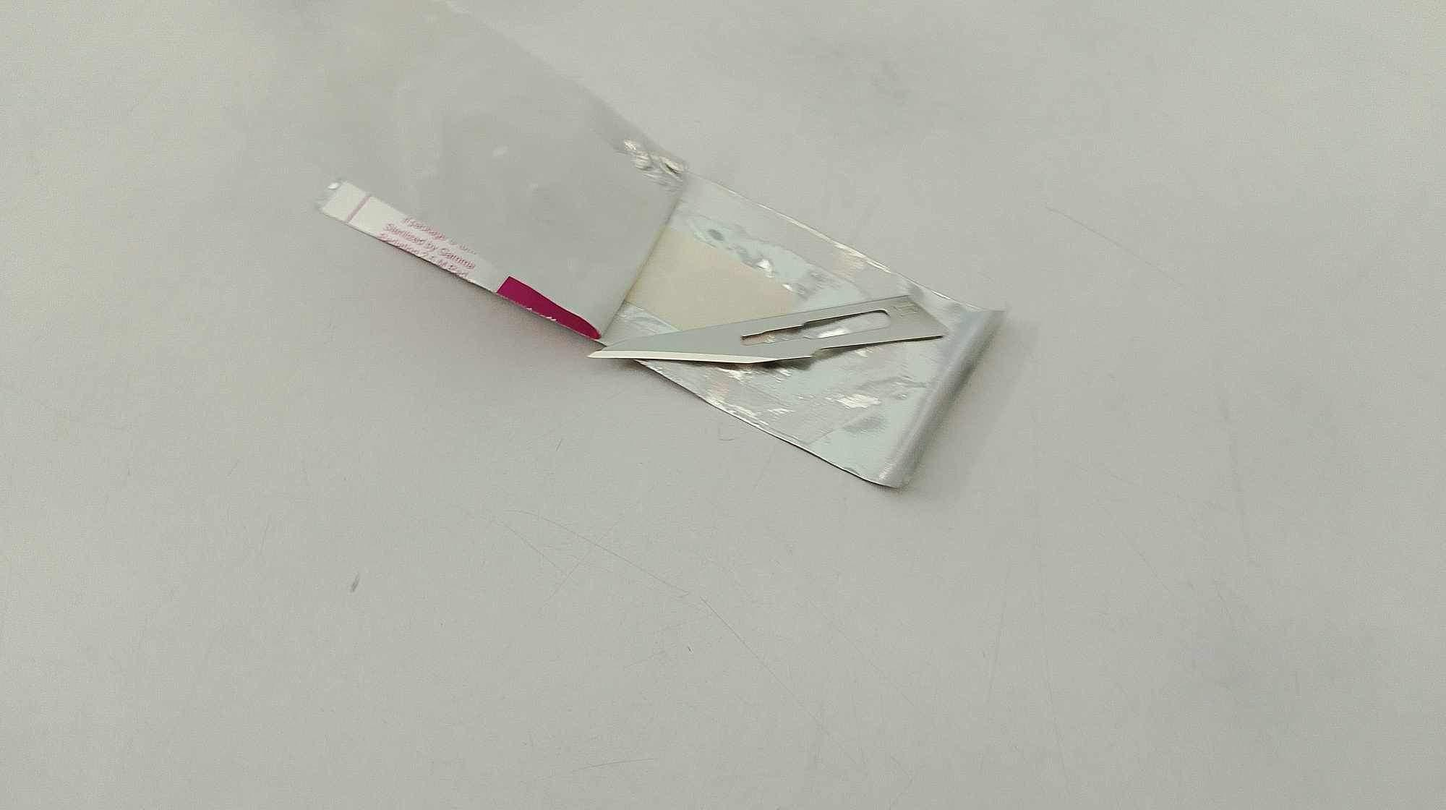Sharps: (315, 175, 949, 369), (315, 176, 605, 345), (586, 293, 948, 365)
